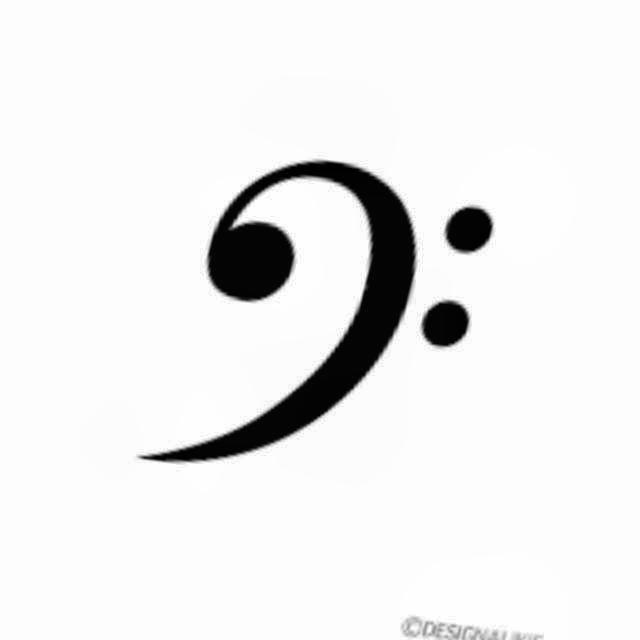Bass-clef: (125, 151, 523, 489)
